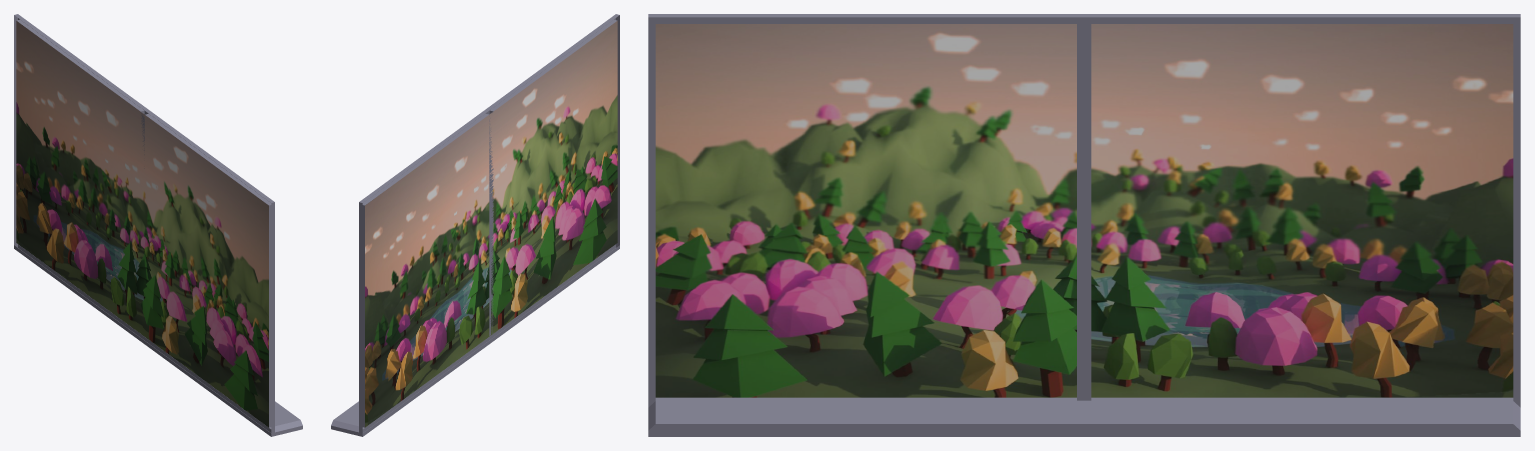
File: window.glb
3 views of the same model, side by side, from view 1: azimuth 30°, elevation 25°; view 2: azimuth 150°, elevation 25°; view 3: azimuth 270°, elevation 25° (orthographic). The views are drawn at different scales.
Parts seen in each view (by area): view 1: Plane; view 2: Plane; view 3: Plane.
Part boxes in pixels (box(x1,y1,x2,y2)): Plane: box(14, 14, 302, 436); Plane: box(331, 14, 619, 436); Plane: box(648, 14, 1520, 436).
Size of the model in its own units: 0.895 by 6.29 by 12.54.
Materials: 2 (1 with a texture image).
